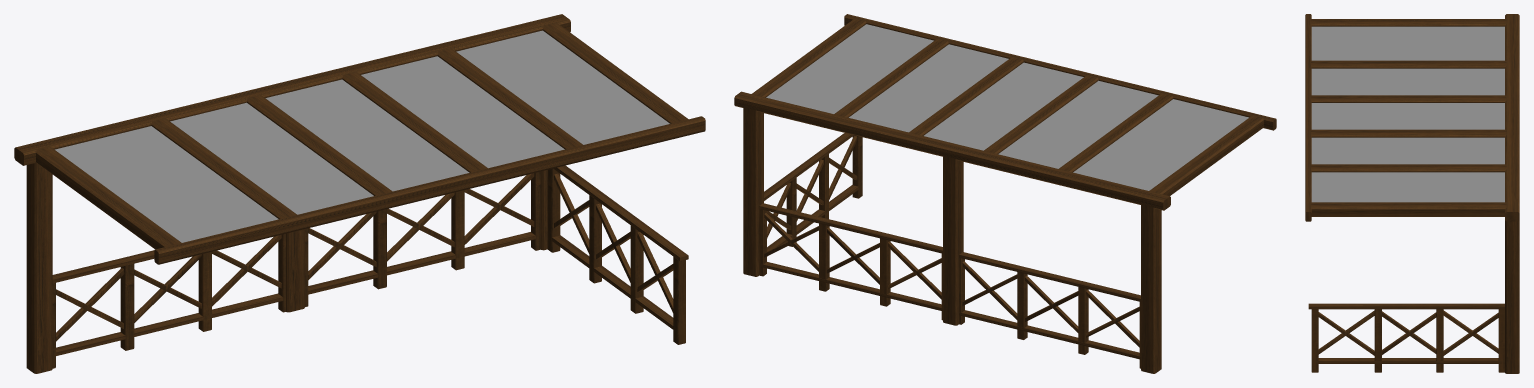
The model's file is Exterior.FBX.
3 renders of one model, left to right at view 1: azimuth 30°, elevation 25°; view 2: azimuth 150°, elevation 25°; view 3: azimuth 270°, elevation 25°, orthographic. The views are drawn at different scales.
Parts seen in each view (by area): view 1: Exterior; view 2: Exterior; view 3: Exterior.
Part boxes in pixels (x1=…): Exterior: x1=14, y1=14, x2=705, y2=373; Exterior: x1=734, y1=14, x2=1276, y2=373; Exterior: x1=1305, y1=14, x2=1519, y2=373.
Size of the model in its own units: 646 by 253 by 295.
2 materials, 1 textured.
